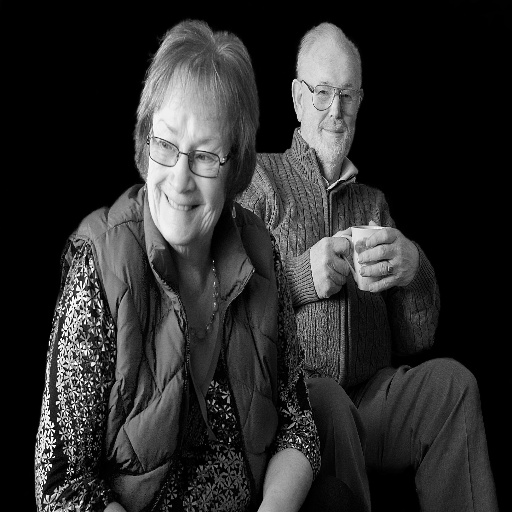hand: (336, 214, 424, 309), (310, 235, 350, 302)
